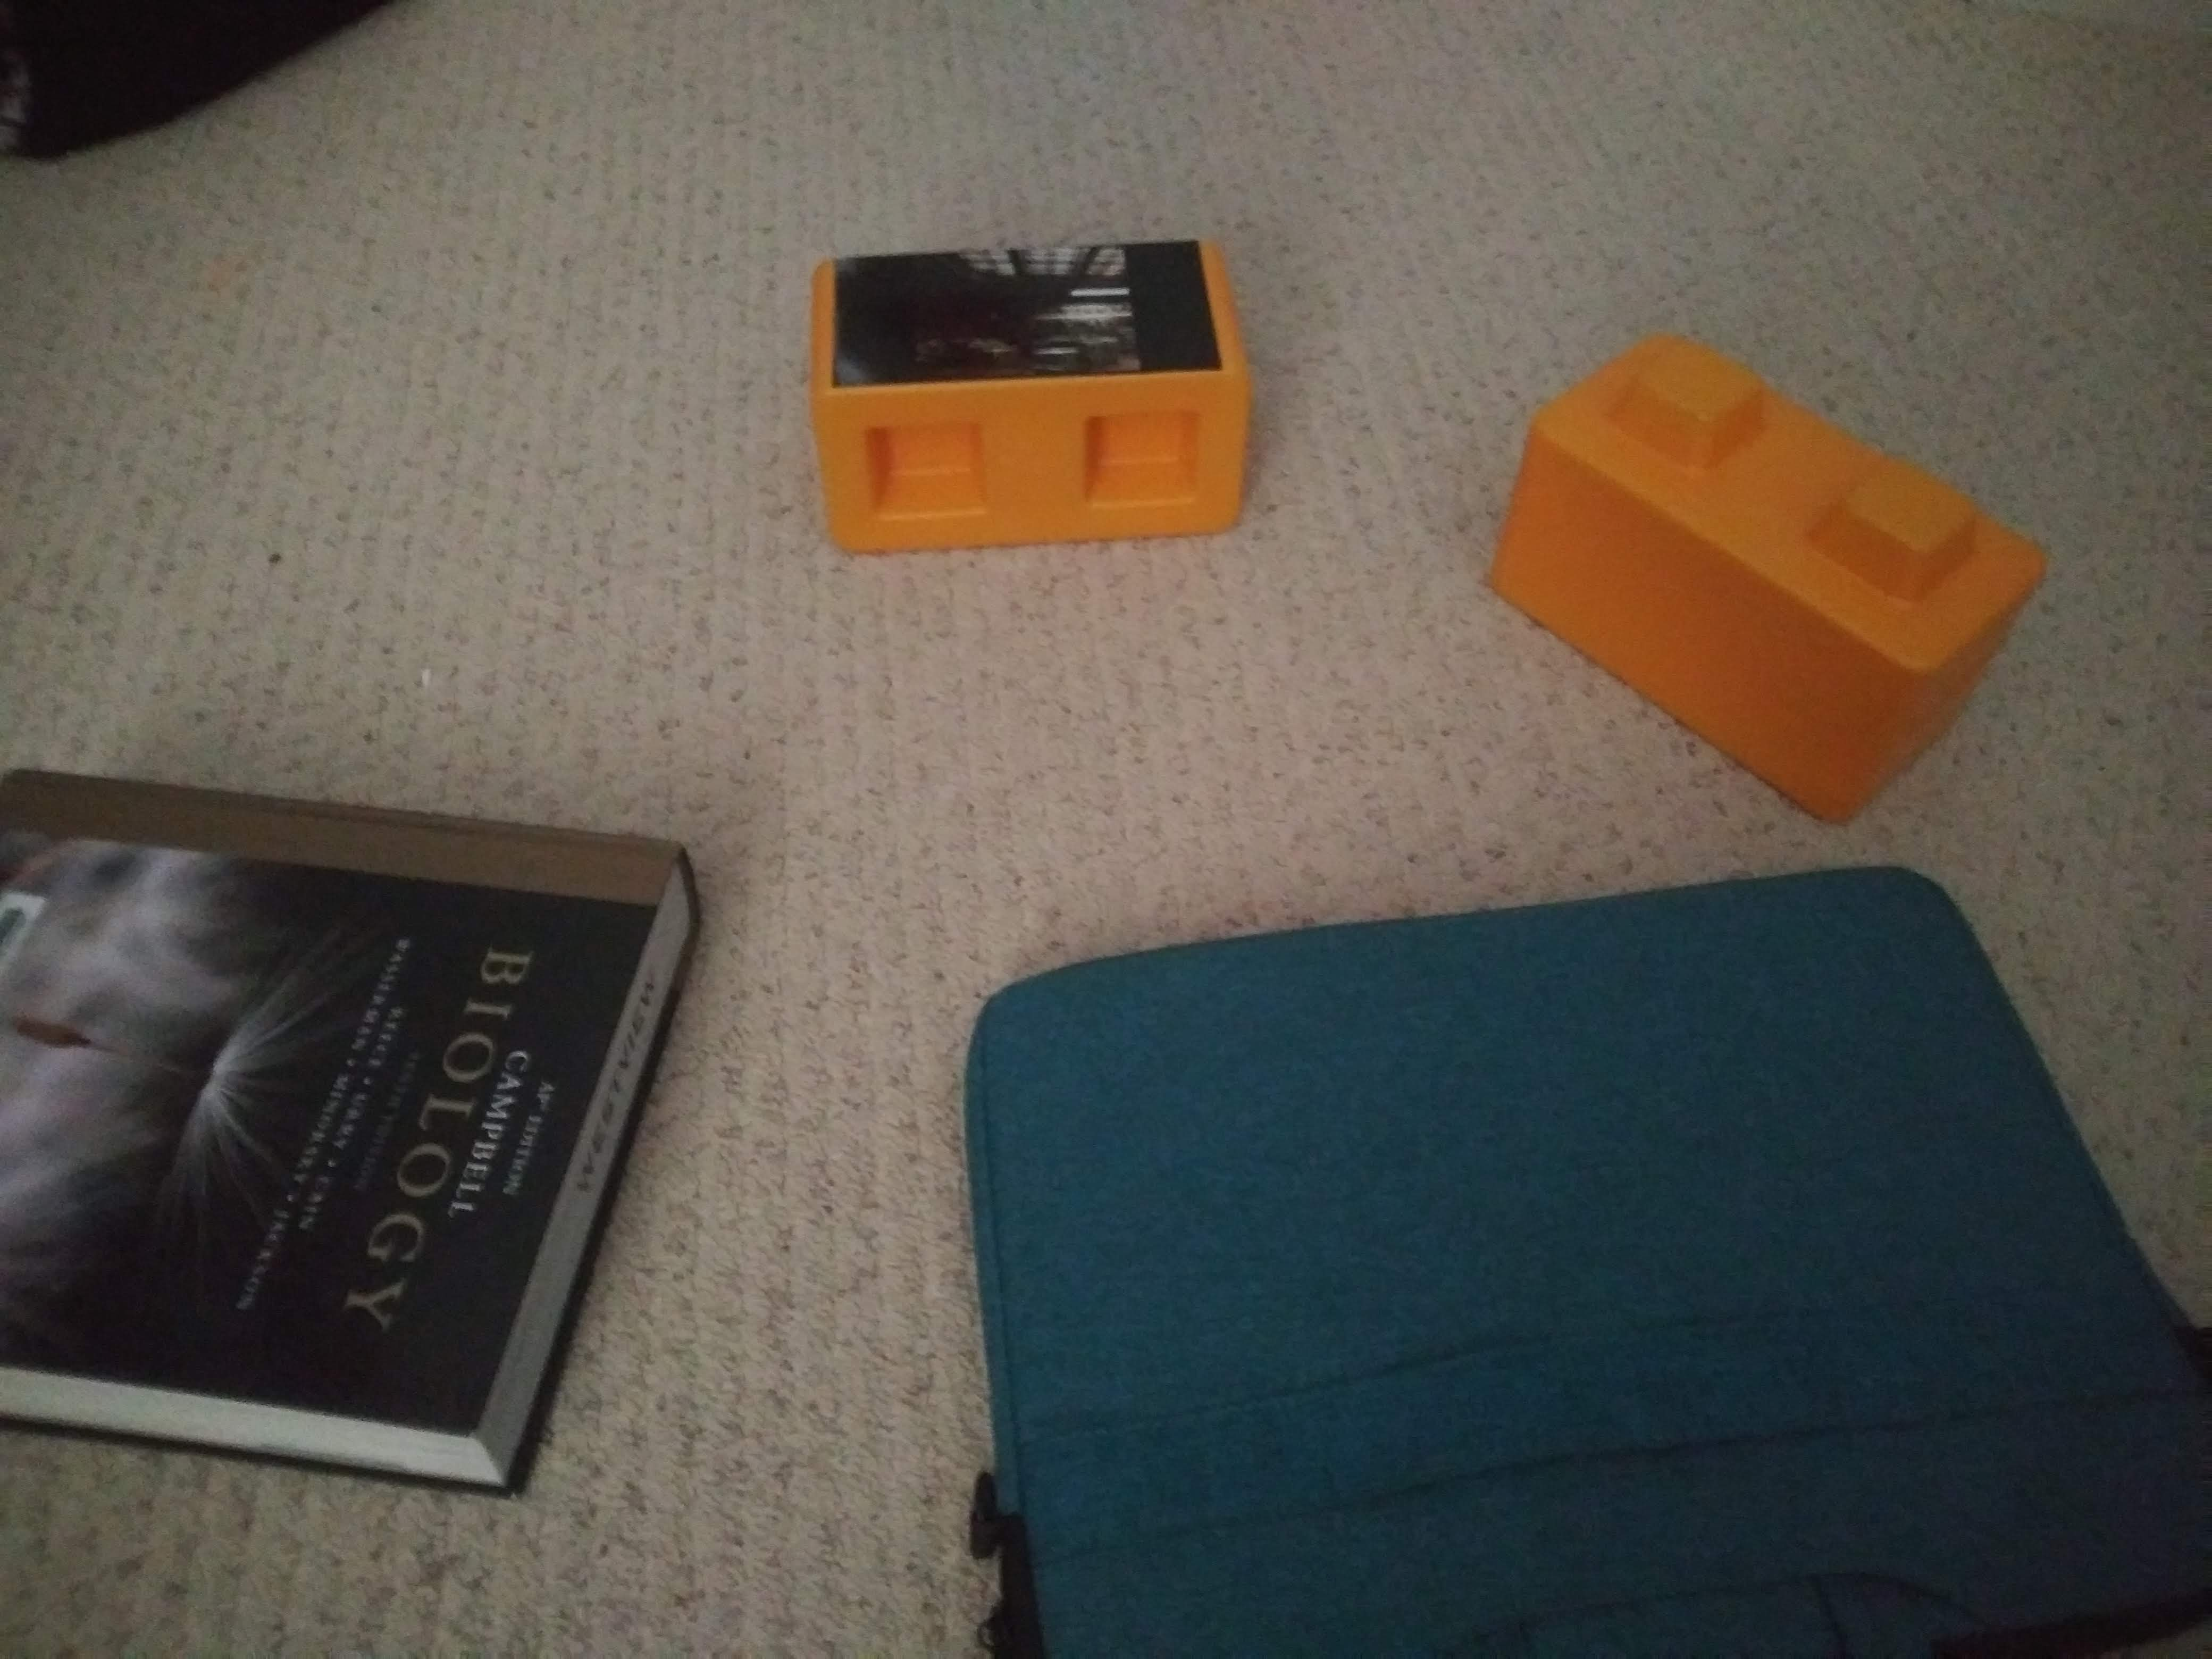skystone: (806, 239, 1263, 538)
stone: (1498, 349, 2047, 805)
